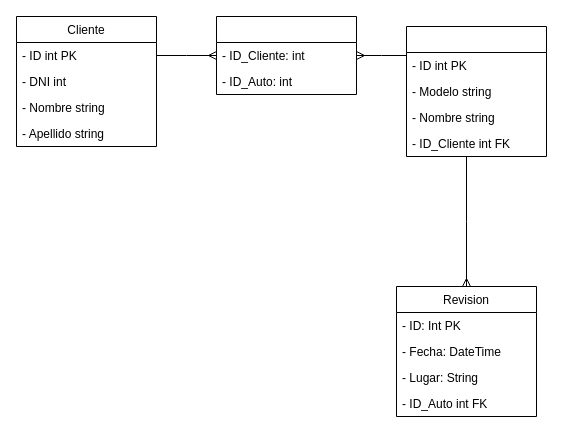
Image size: 563x433. Some labels were removed from this diagram. Each missing label, with the box of its shape:
Auto: (406, 26, 546, 156)
Cliente_Auto: (216, 16, 356, 94)
